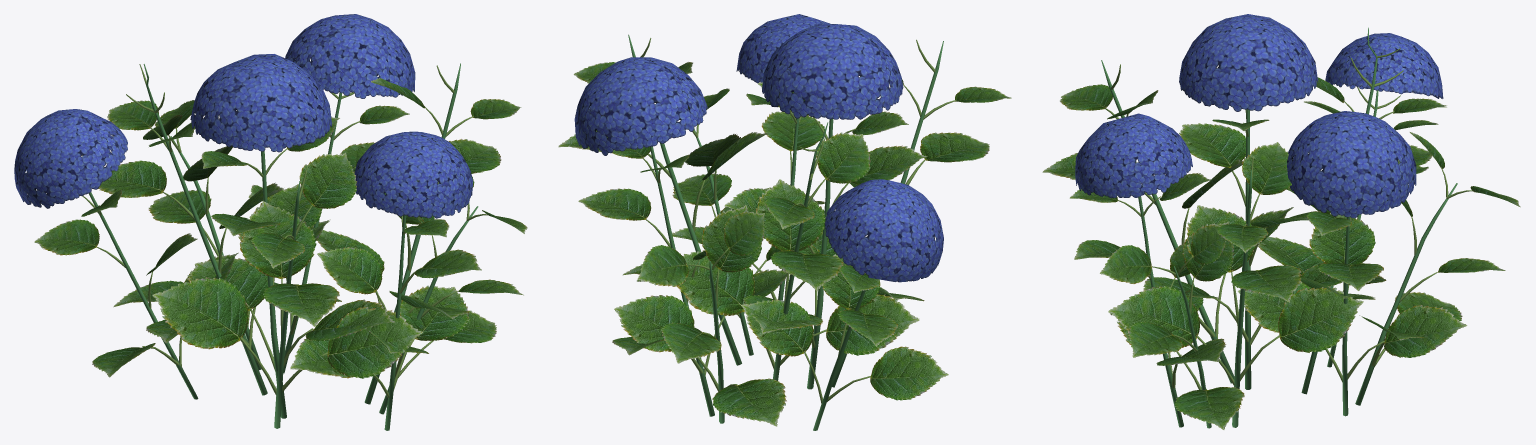
The model's file is hydrangea_blue.gltf.
3 views of the same model, side by side, from view 1: azimuth 30°, elevation 25°; view 2: azimuth 150°, elevation 25°; view 3: azimuth 270°, elevation 25° (orthographic). The views are drawn at different scales.
Parts seen in each view (by area): view 1: hydrangea_blue; view 2: hydrangea_blue; view 3: hydrangea_blue.
Boxes of the visible parts, x1,y1,x2,y2 form: hydrangea_blue: (14,14,527,430); hydrangea_blue: (558,14,1011,430); hydrangea_blue: (1042,14,1520,429).
Size of the model in its own units: 0.7979 by 0.6494 by 0.782.
4 materials, 2 textured.
